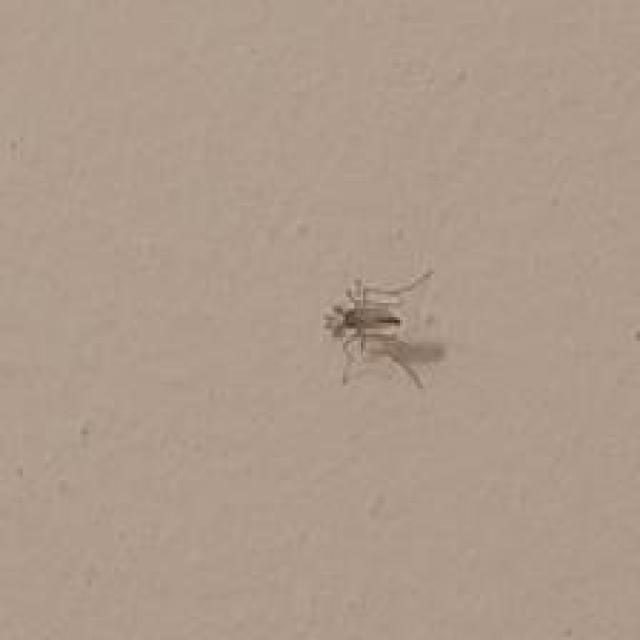Culex: (322, 267, 438, 390)
